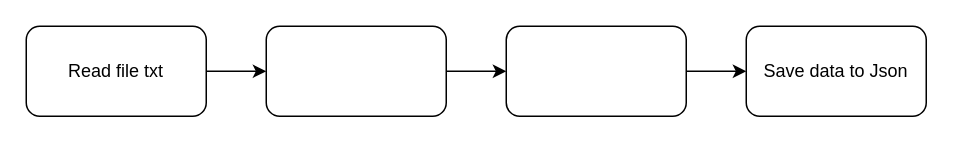
This 953x143 diagram has some shape labels left out. The shapes that lost their labels are listed below. From the top down, each one's box as (x1, y1, x2, y2) in pixels, then its label:
(265, 25, 446, 116): access each URL
(505, 25, 686, 116): Exacting attributes
